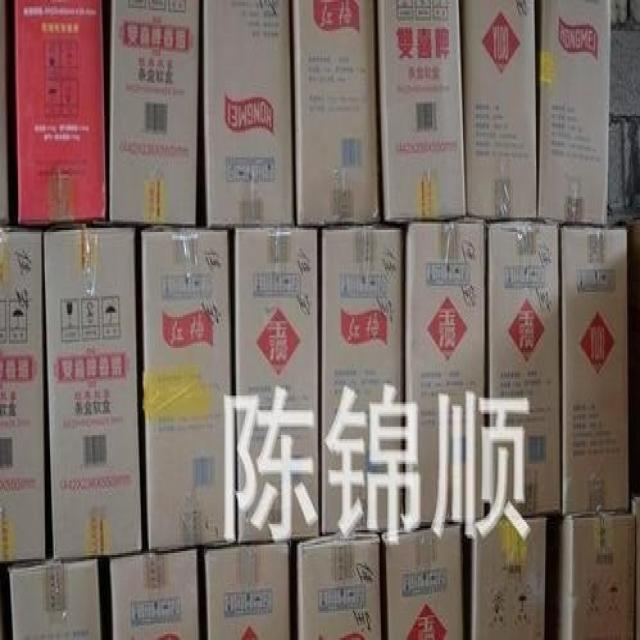box: (45, 229, 141, 558), (142, 232, 237, 550), (236, 230, 320, 543), (406, 222, 485, 527), (323, 230, 401, 534), (488, 220, 560, 517), (204, 1, 294, 227), (15, 1, 105, 222), (111, 0, 197, 226), (379, 0, 466, 219), (562, 229, 629, 513), (295, 1, 379, 224), (462, 0, 538, 218), (538, 2, 610, 226), (0, 231, 45, 561), (559, 511, 635, 638), (472, 520, 546, 638), (298, 533, 381, 638), (385, 527, 463, 638), (206, 543, 289, 637), (111, 551, 198, 638), (9, 558, 101, 638)
